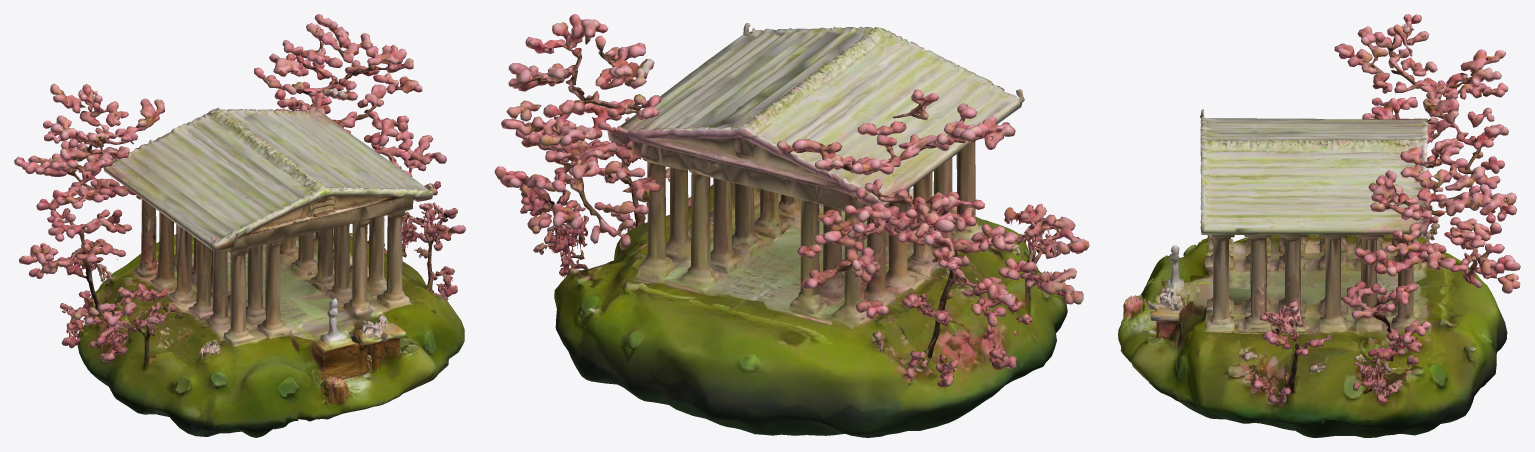
File: _Greece_A_floating_i.glb
The picture shows the model from 3 angles, left to right: view 1: azimuth 30°, elevation 25°; view 2: azimuth 150°, elevation 25°; view 3: azimuth 270°, elevation 25°; orthographic projection. The views are drawn at different scales.
Parts seen in each view (by area): view 1: _Greece_A_floating_i; view 2: _Greece_A_floating_i; view 3: _Greece_A_floating_i.
Part boxes in pixels (x1,y1,x2,y2): _Greece_A_floating_i: (14, 14, 465, 437); _Greece_A_floating_i: (494, 14, 1089, 437); _Greece_A_floating_i: (1118, 14, 1520, 437).
Size of the model in its own units: 1.99 by 1.44 by 1.63.
1 material, 1 textured.
